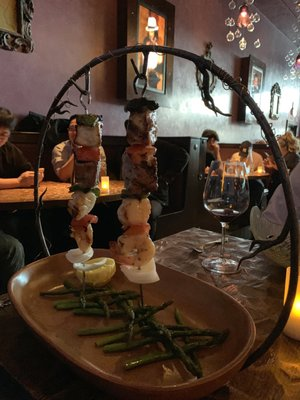curry: (9, 214, 292, 400)
sandwich: (202, 160, 250, 272)
